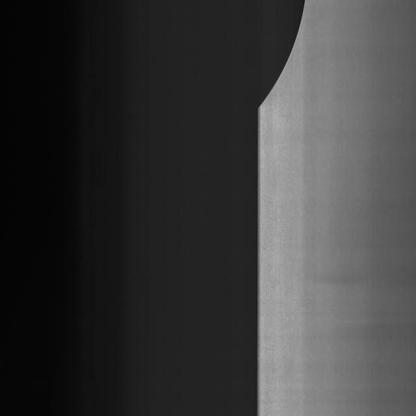crescent_gap: (242, 0, 318, 115)
